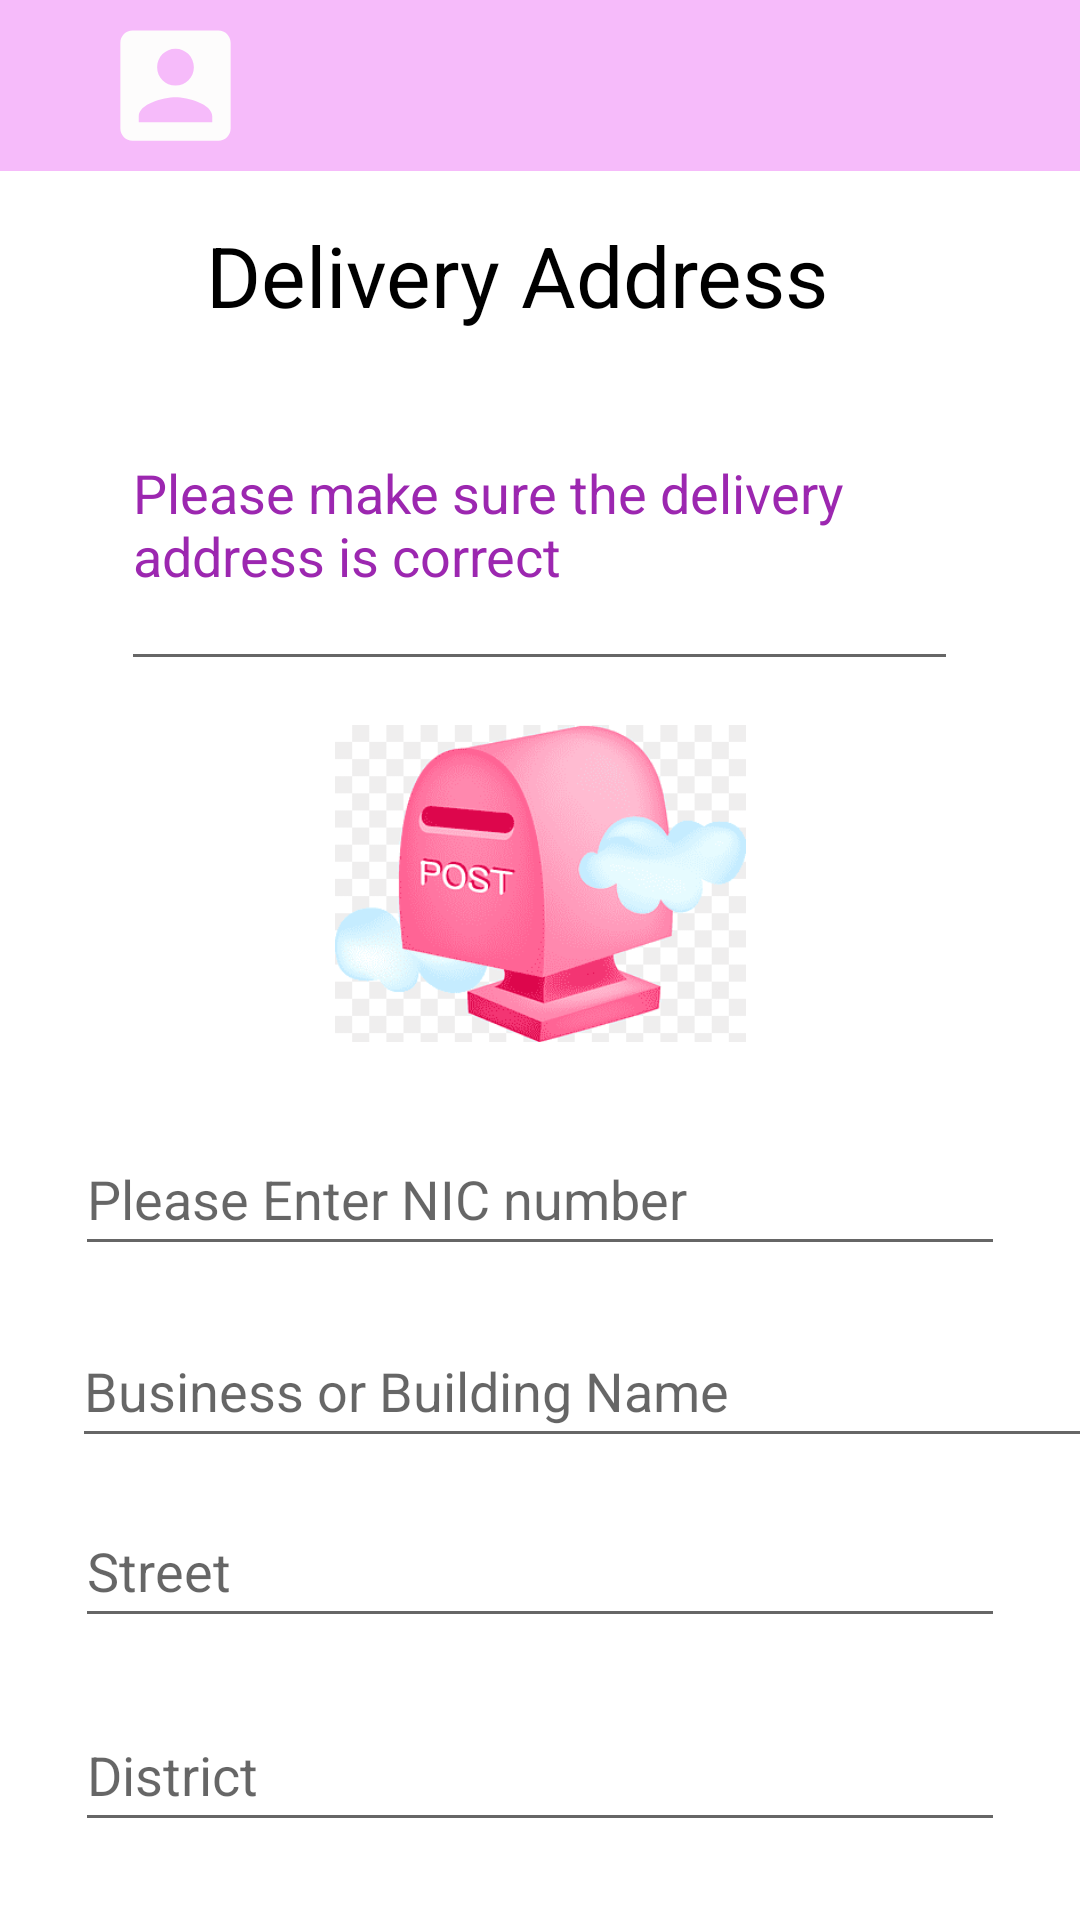

Screen size 1080px x 1920px. Icon name, then its box in pixels as (x1, y1, x2, y2):
account box: (120, 30, 231, 141)
